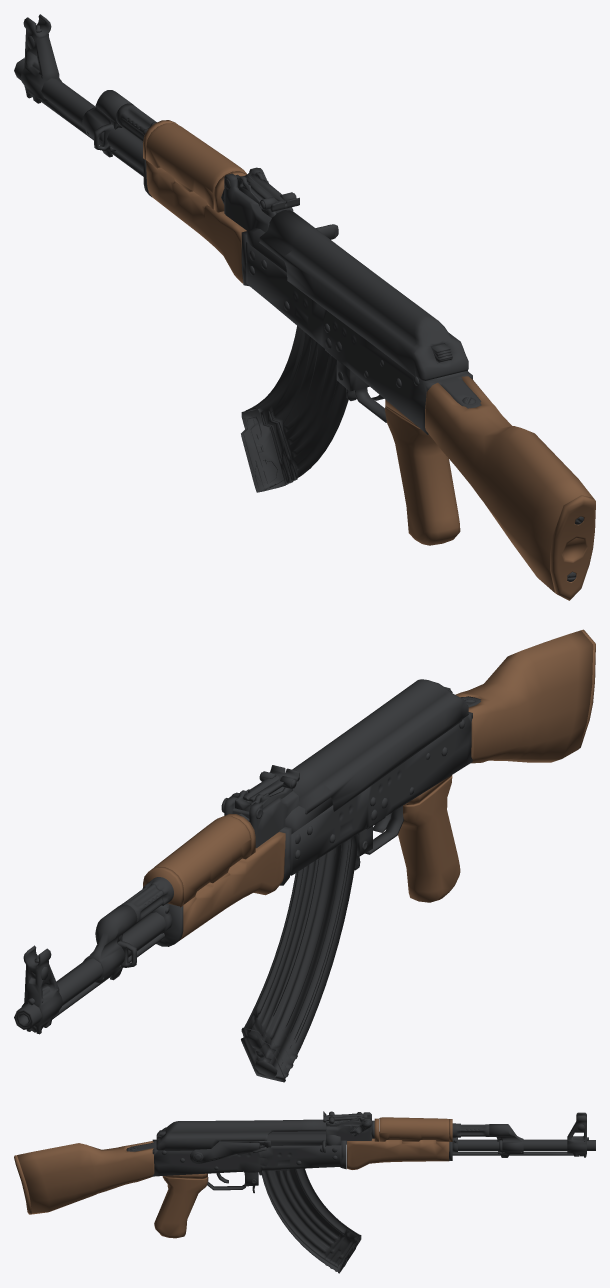
Rendered from rpk_oga.glb.
The picture shows the model from 3 angles, top to bottom: view 1: azimuth 30°, elevation 25°; view 2: azimuth 150°, elevation 25°; view 3: azimuth 270°, elevation 25°; orthographic projection. The views are drawn at different scales.
Parts seen in each view (by area): view 1: Body, Magazine; view 2: Body, Magazine; view 3: Body, Magazine.
Boxes of the visible parts, x1=… form: Body: x1=14, y1=14, x2=595, y2=600; Magazine: x1=241, y1=326, x2=348, y2=492; Body: x1=14, y1=629, x2=595, y2=1034; Magazine: x1=241, y1=834, x2=358, y2=1082; Body: x1=14, y1=1111, x2=595, y2=1238; Magazine: x1=259, y1=1168, x2=361, y2=1273.
Bounding box in the file's own units: 0.0835 × 0.3079 × 1.04.
